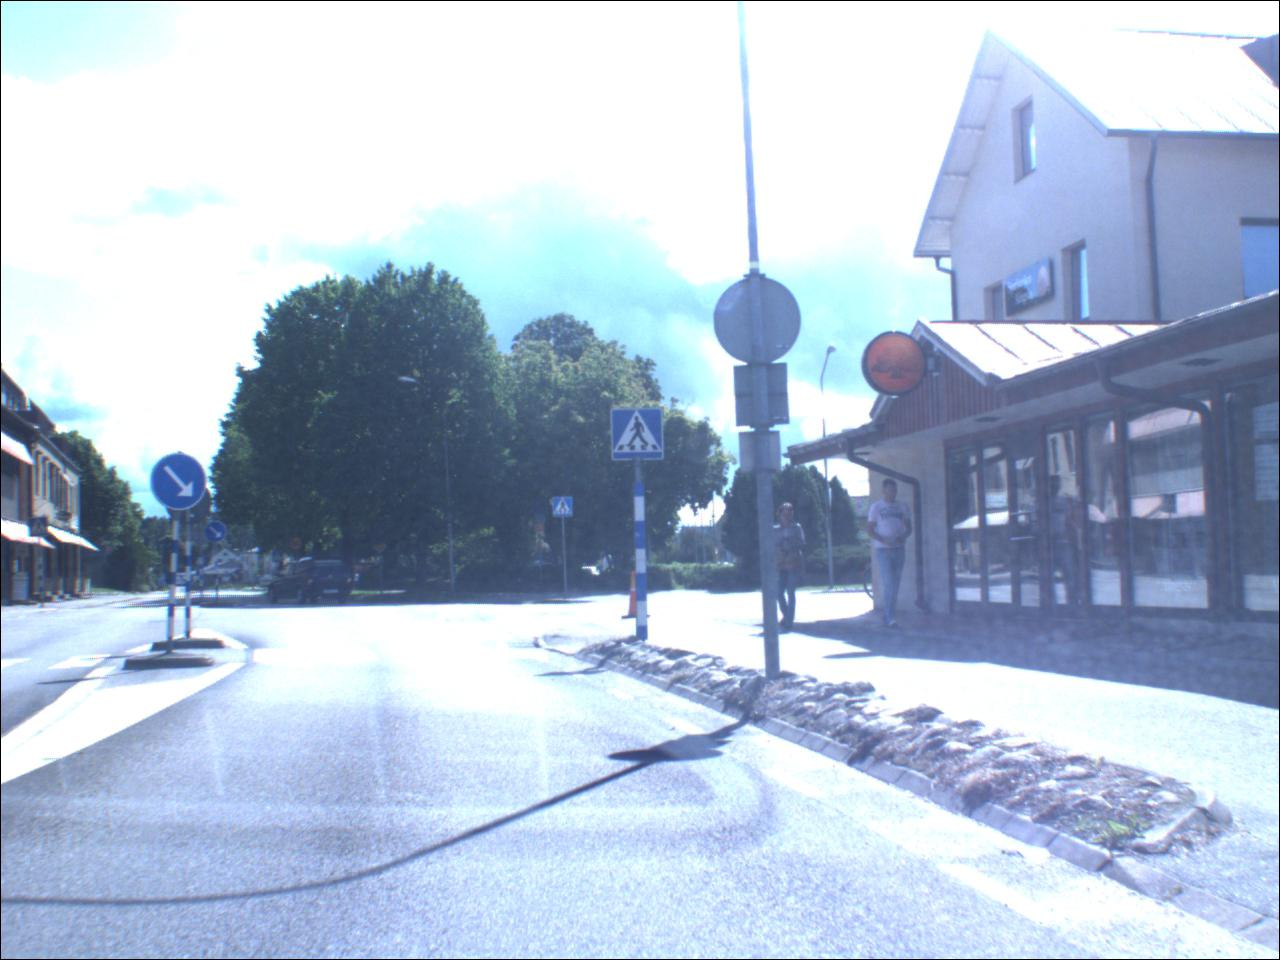50_SIGN: (290, 537, 308, 555)
PASS_RIGHT_SIDE: (152, 453, 210, 513), (207, 523, 229, 544)
PEDESTRIAN_CROSSING: (612, 411, 668, 464), (28, 517, 50, 537), (556, 499, 577, 520), (274, 552, 286, 563)
PRIORITY_ROAD: (375, 539, 392, 557)
